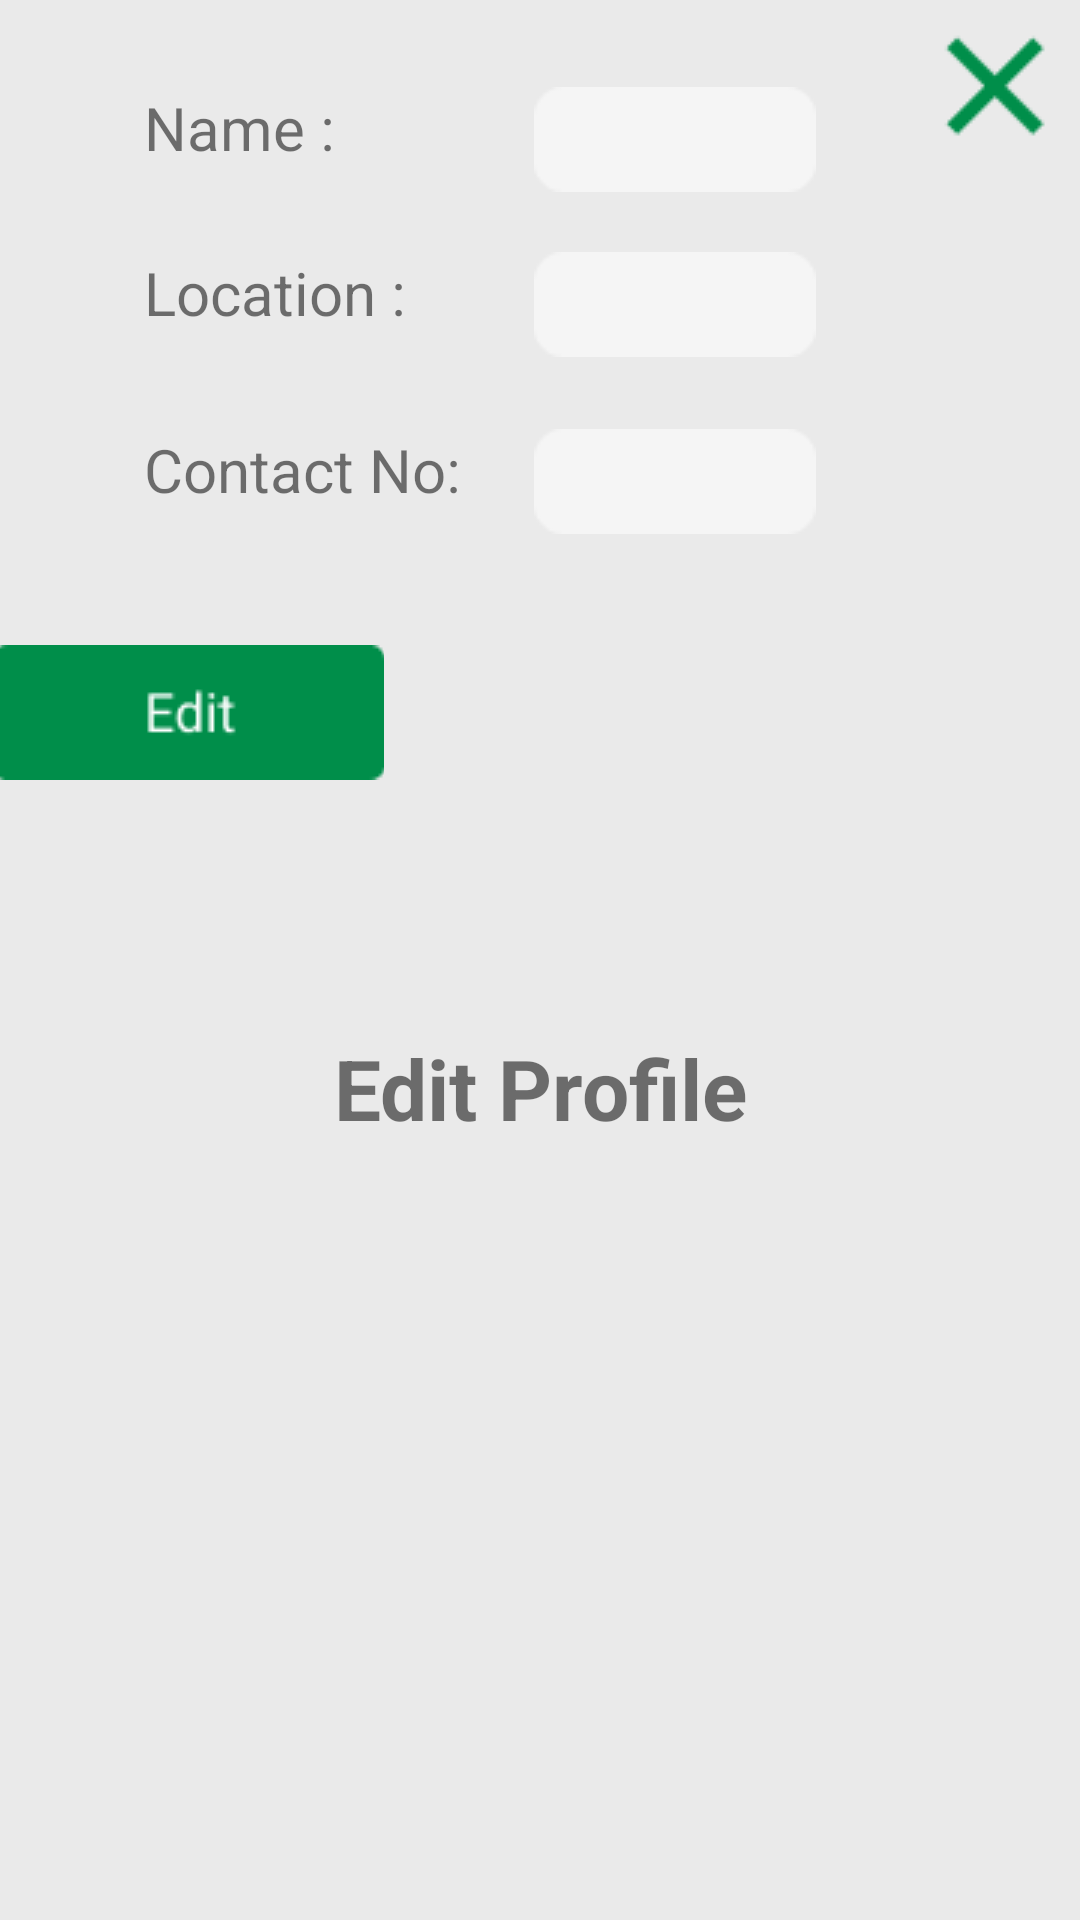

Icon click points for this 1080 × 1920 phone screenshot, format point (x, y):
cross: point (995, 86)
